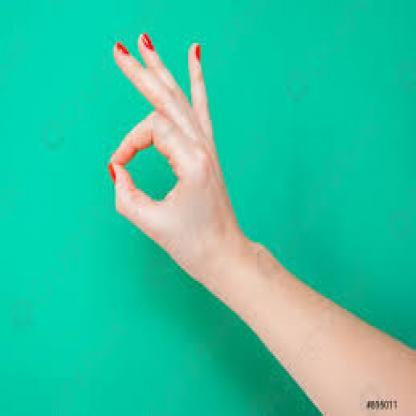ok: (101, 26, 216, 262)
